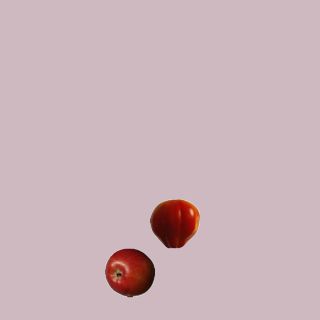Apple Braeburn: (104, 247, 154, 297)
Tomato 1: (149, 198, 199, 248)
